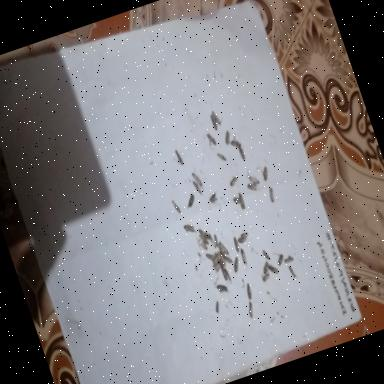pbw: (204, 130, 218, 148), (236, 190, 248, 211), (191, 169, 204, 188), (215, 280, 230, 296), (208, 112, 220, 132), (222, 128, 234, 148), (192, 178, 204, 197), (243, 282, 255, 300), (230, 255, 242, 273), (266, 186, 278, 204), (185, 193, 199, 208), (198, 225, 210, 242), (174, 146, 184, 166), (231, 236, 242, 254), (238, 248, 249, 266), (212, 297, 223, 315), (220, 250, 234, 264), (260, 165, 272, 181), (237, 144, 248, 161), (219, 238, 230, 255), (260, 260, 272, 275), (212, 231, 222, 249), (245, 302, 256, 318), (199, 230, 210, 246), (219, 264, 229, 281), (208, 232, 218, 249), (217, 243, 227, 260), (216, 250, 226, 267), (216, 150, 228, 164), (260, 270, 274, 282), (248, 172, 260, 186), (208, 192, 220, 206), (198, 237, 209, 252), (288, 264, 298, 280), (262, 246, 272, 262), (172, 198, 182, 214), (246, 180, 258, 193), (230, 138, 243, 150), (268, 263, 280, 276), (183, 222, 196, 234), (282, 254, 296, 265), (228, 174, 240, 186), (214, 262, 224, 276), (224, 267, 233, 282), (232, 194, 243, 206), (236, 234, 248, 245), (276, 253, 286, 266), (240, 230, 250, 240), (211, 256, 221, 266), (204, 251, 214, 261)
